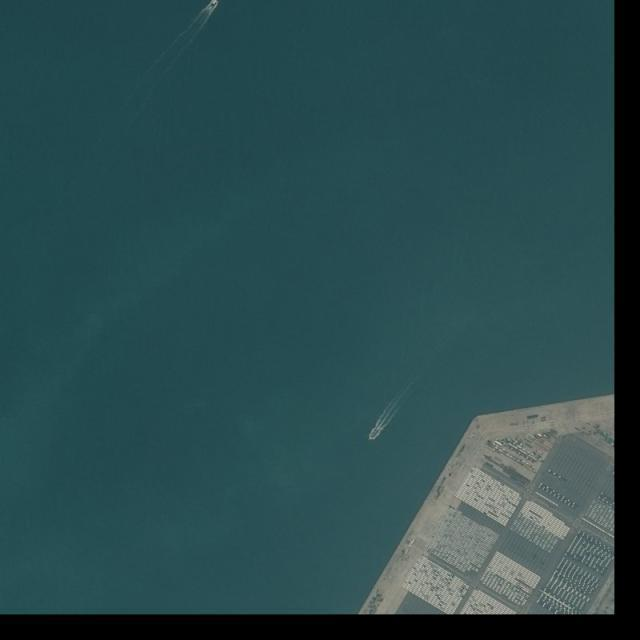ship: (367, 430, 378, 442), (210, 0, 219, 8)
